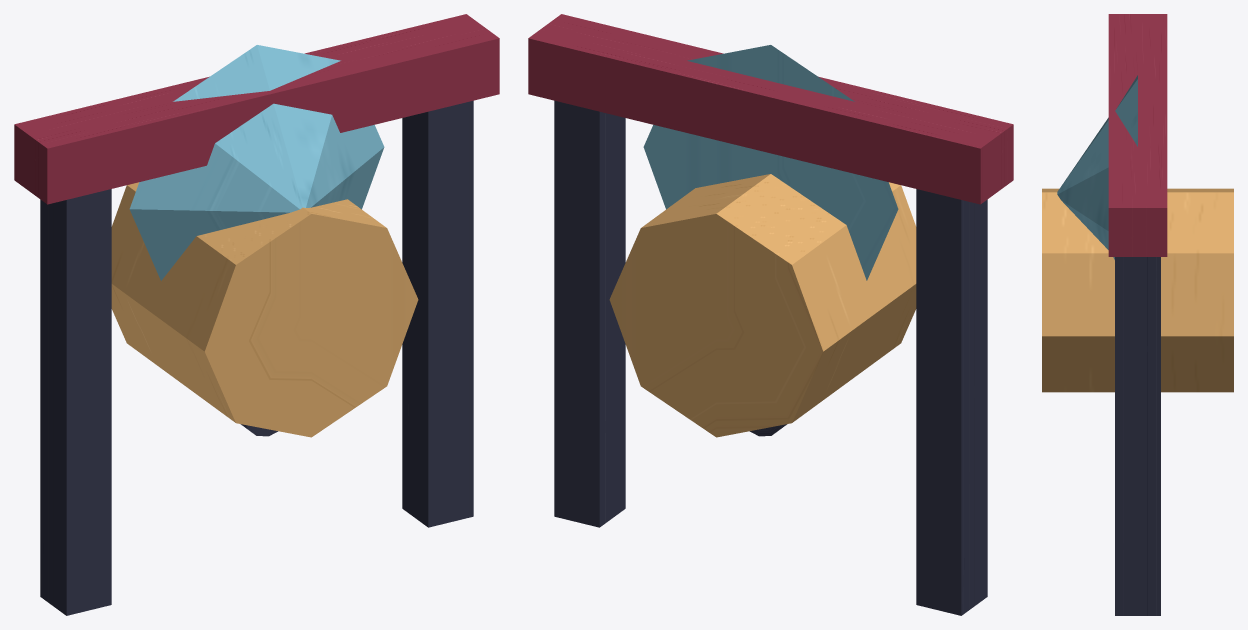
Rendered from frozen_bell_lod1.glb.
3 renders of one model, left to right at view 1: azimuth 30°, elevation 25°; view 2: azimuth 150°, elevation 25°; view 3: azimuth 270°, elevation 25°, orthographic. The views are drawn at different scales.
Parts seen in each view (by area): view 1: gold_3, vermillion_2, wood_0, wood_1, ice_4; view 2: gold_3, vermillion_2, wood_0, wood_1, ice_4; view 3: gold_3, wood_1, vermillion_2, ice_4.
Part boxes in pixels (x1=…): gold_3: x1=111, y1=182, x2=418, y2=437; vermillion_2: x1=14, y1=14, x2=499, y2=204; wood_0: x1=40, y1=189, x2=111, y2=615; wood_1: x1=402, y1=100, x2=473, y2=527; ice_4: x1=129, y1=45, x2=384, y2=280; gold_3: x1=609, y1=174, x2=916, y2=437; vermillion_2: x1=528, y1=14, x2=1013, y2=204; wood_0: x1=916, y1=189, x2=987, y2=615; wood_1: x1=554, y1=100, x2=625, y2=527; ice_4: x1=643, y1=45, x2=898, y2=280; gold_3: x1=1042, y1=188, x2=1233, y2=392; wood_1: x1=1115, y1=257, x2=1160, y2=615; vermillion_2: x1=1108, y1=14, x2=1167, y2=256; ice_4: x1=1057, y1=75, x2=1137, y2=259.
Size of the model in its own units: 5.5 by 5.95 by 2.3.
Materials: 4 (4 with a texture image).
